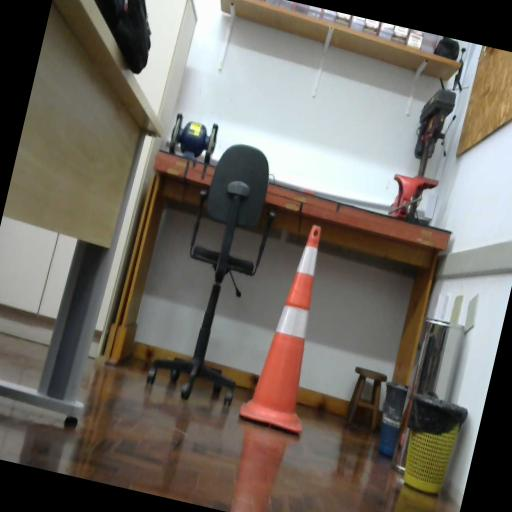cone: (237, 218, 348, 437)
